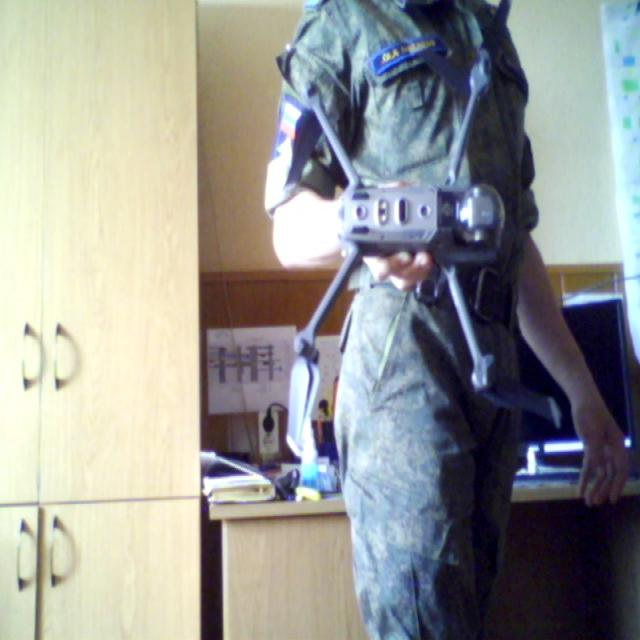drone: (281, 0, 514, 407)
